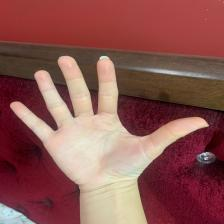five: (10, 56, 206, 187)
